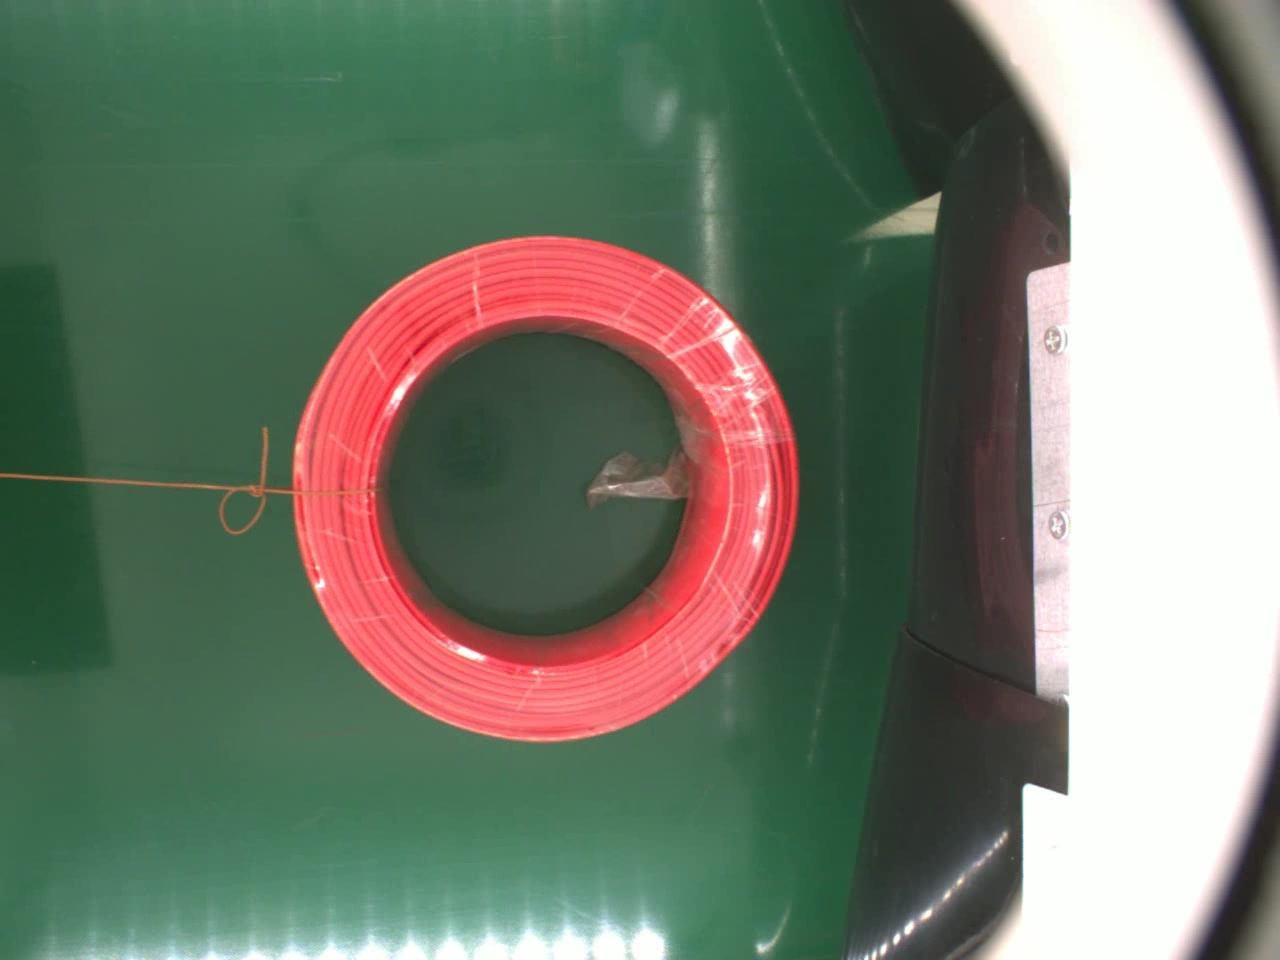red: (294, 236, 803, 742)
